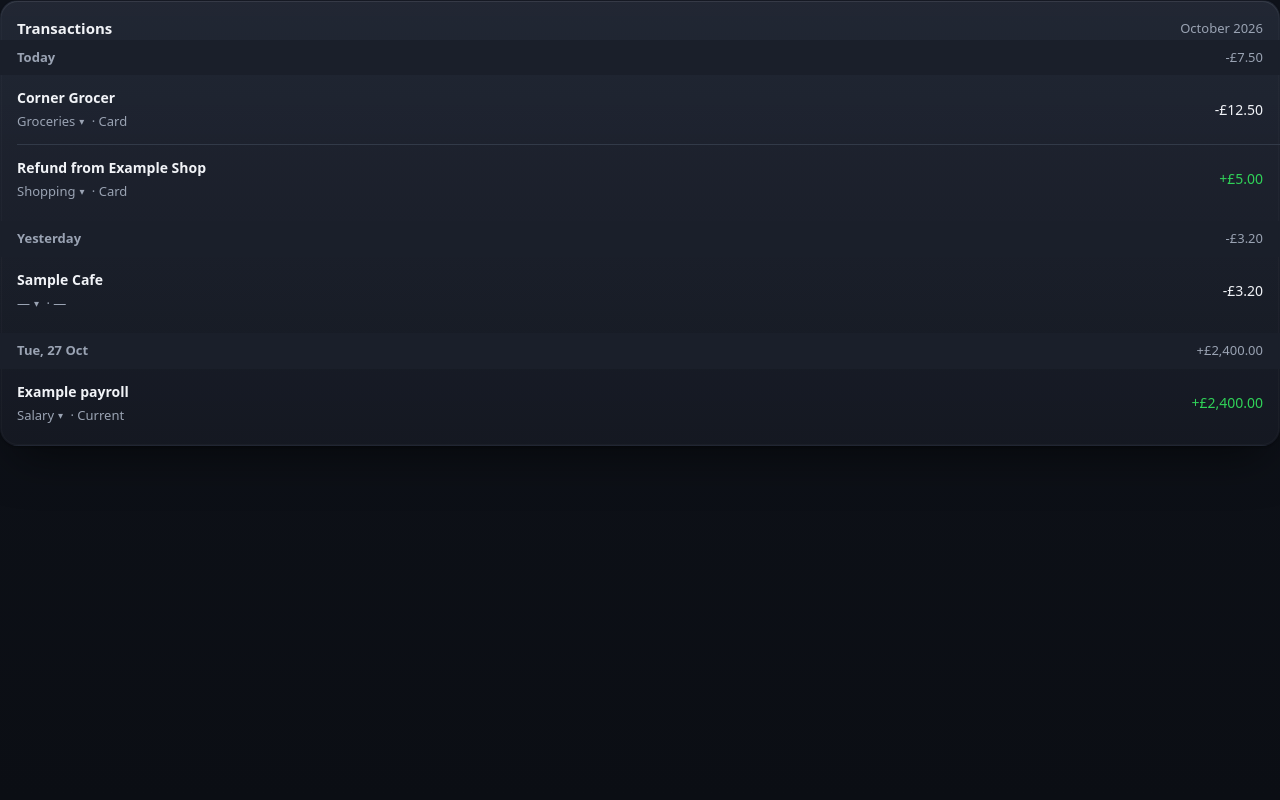
Test case: changing a category › saves a known category in two clicks and reloads the page
This screenshot has width=1280, height=800.
Click the button "Groceries ▾" at point(51, 122), box [13,108,88,136]
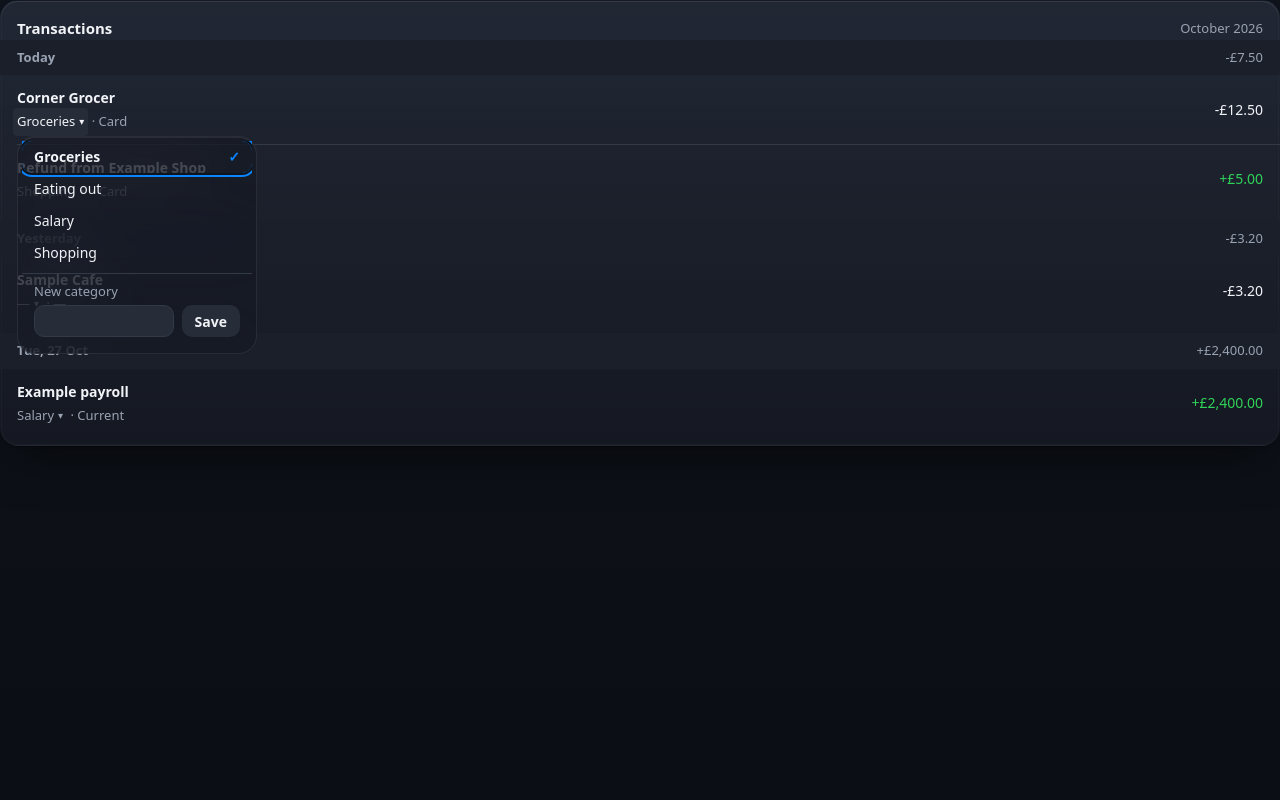
Click the button "Eating out" at point(137, 188), box [22,172,252,204]
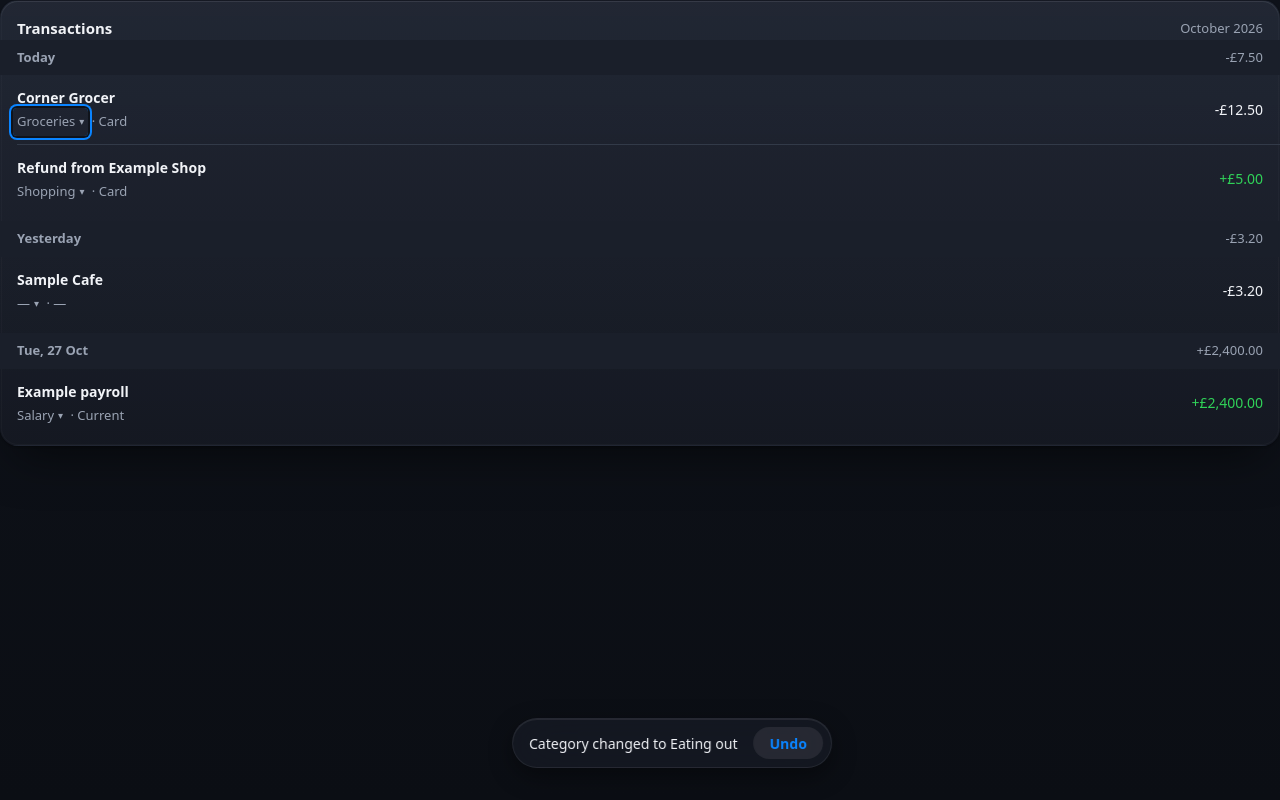
Expected: the dialog is gone
